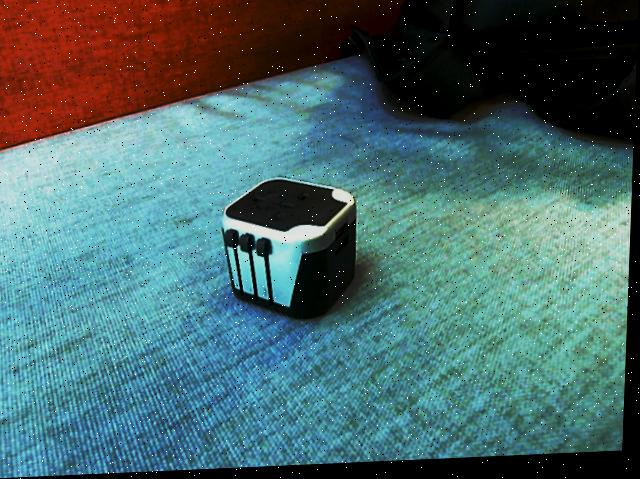adapter: (219, 176, 362, 325)
